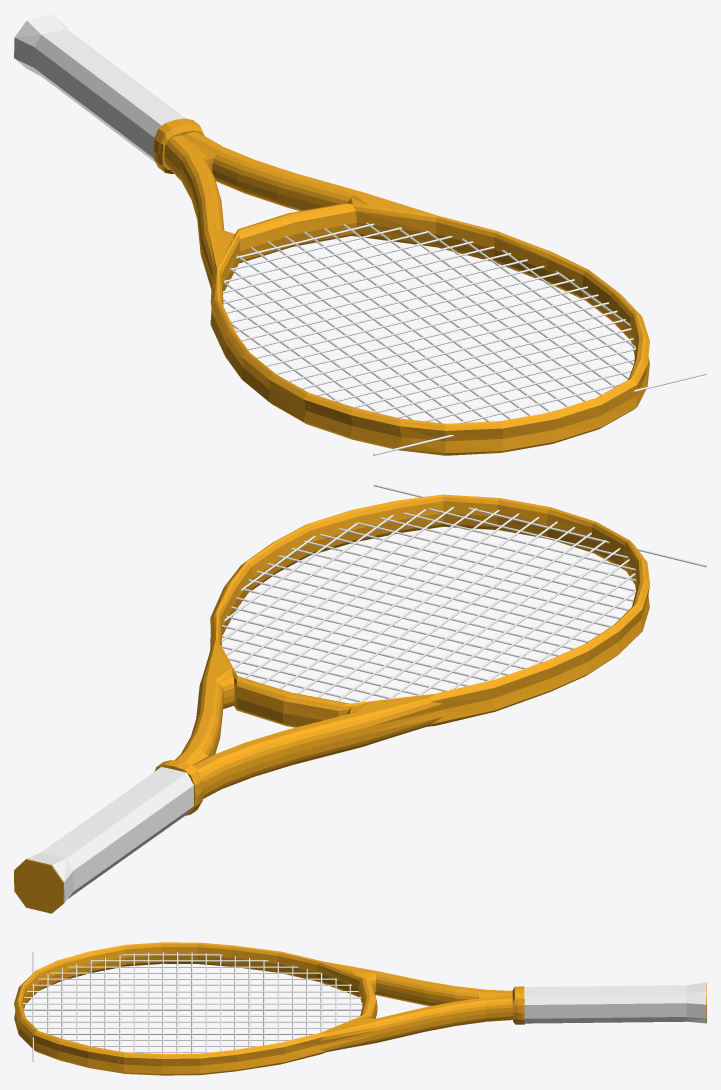
The model's file is 72XCHXgHlg7.glb.
3 renders of one model, top to bottom at view 1: azimuth 30°, elevation 25°; view 2: azimuth 150°, elevation 25°; view 3: azimuth 270°, elevation 25°, orthographic. The views are drawn at different scales.
Visible parts, largest first — view 1: frame, Cylinder, Cylinder_0; view 2: frame, Cylinder, Cylinder_0; view 3: frame, Cylinder_0, Cylinder.
Boxes of the visible parts, box(x1,y1,x2,y2) form: frame: box(14, 14, 649, 455); Cylinder: box(223, 223, 706, 455); Cylinder_0: box(223, 222, 635, 423); frame: box(14, 494, 649, 913); Cylinder: box(221, 484, 706, 716); Cylinder_0: box(221, 507, 635, 702); frame: box(14, 942, 706, 1075); Cylinder_0: box(23, 954, 362, 1052); Cylinder: box(32, 951, 350, 1061).
Bounding box in the file's own units: 7.06 × 1 × 17.97.
